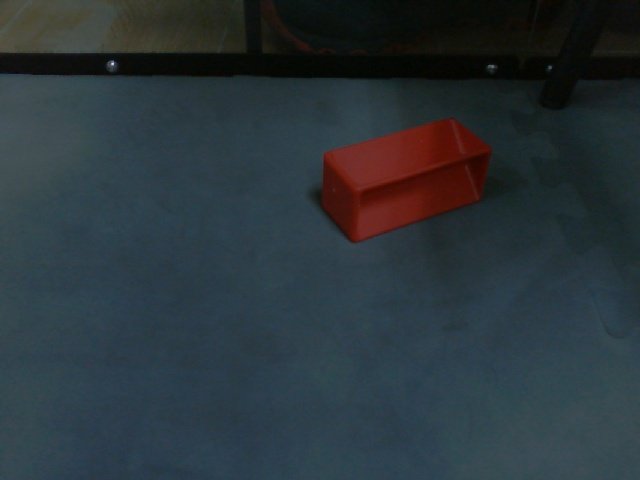RedSample: (319, 114, 495, 245)
